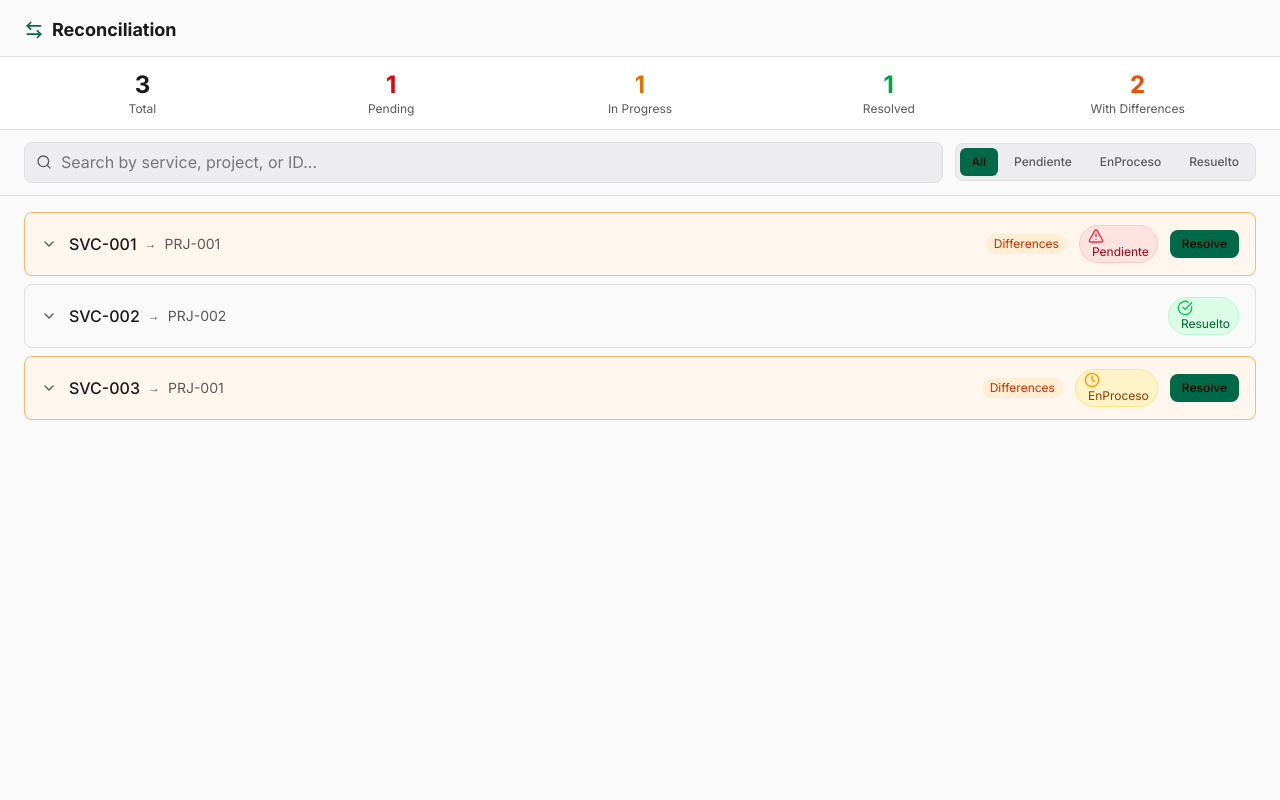
Test: ReconciliationScreen › Resolve button opens modal for non-resolved items
Expected: the button "SVC-001" is shown, [69,232,136,256]
Click the 1st button "Resolve". click: (1204, 244)
box: [1170,230,1239,258]
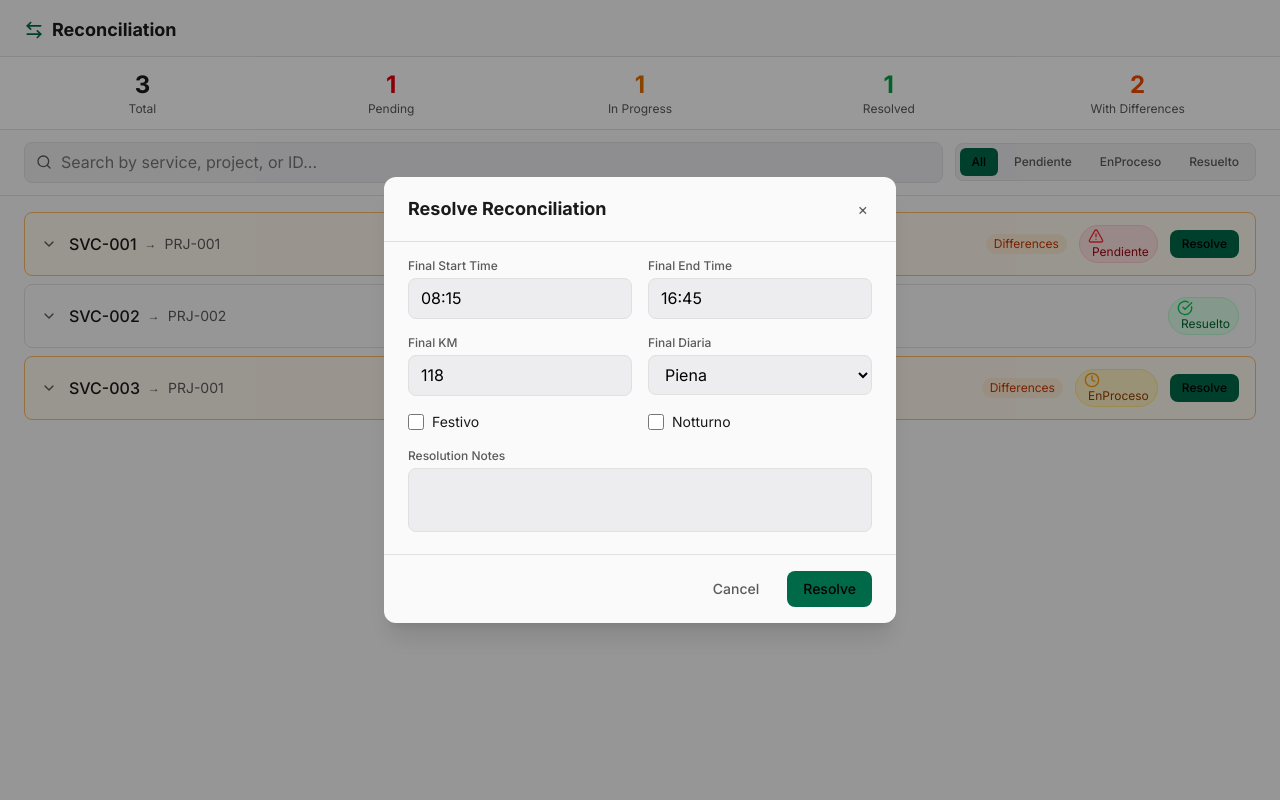
Expected: the heading "Resolve Reconciliation" is shown, [408,195,606,223]
